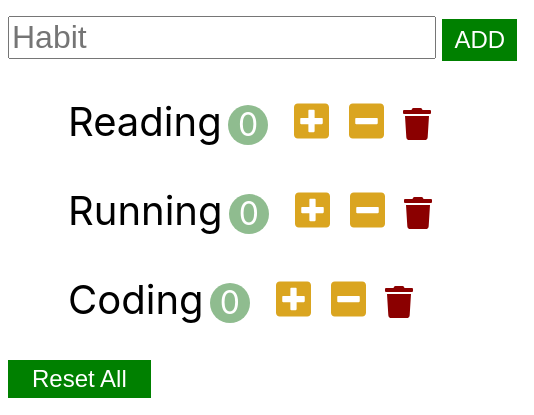
Scenario: Habit Tracker › reset to 0 when clicking reset btn
The width and height of the screenshot is (534, 415).
Step 1. Click the button titled "increase" in the row of "Reading" → (312,123), box [288,99,335,146]
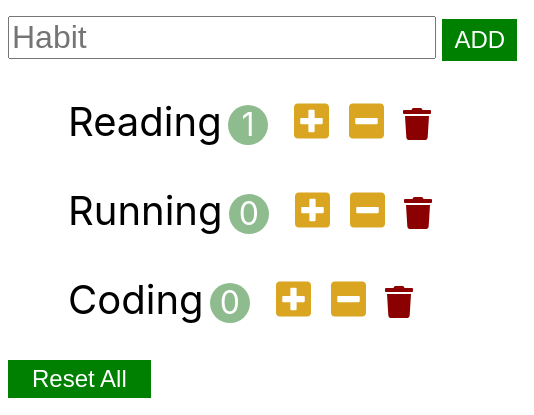
Step 2. Click the button titled "increase" in the row of "Coding" → (294,301), box [270,277,317,324]
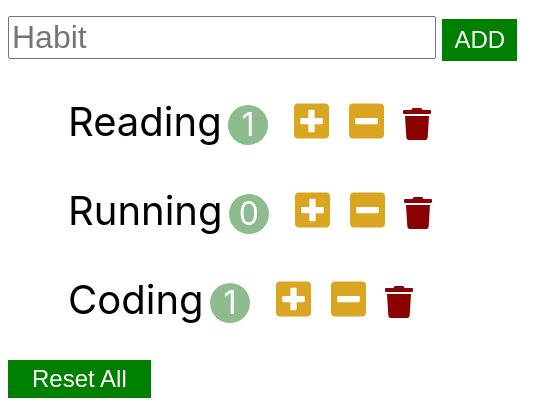
Step 3. Click the button "Reset All" → (80,379), box [8,360,151,398]
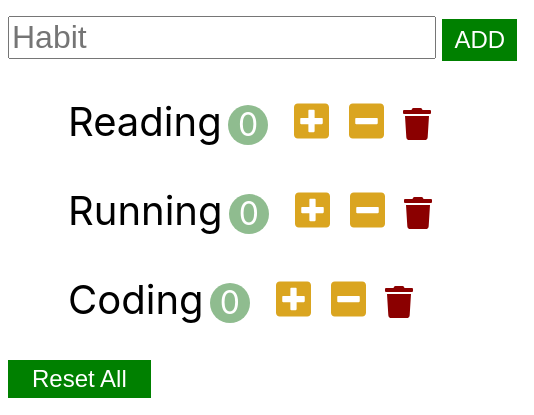
Expected: the text with test id "habit-count" next to "Running" reads "0", [229,194,269,234]
Now the text with test id "habit-count" next to "Reading" reads "0", box [228,105,268,145]
Now the text with test id "habit-count" next to "Coding" reads "0", box [210,283,250,323]
